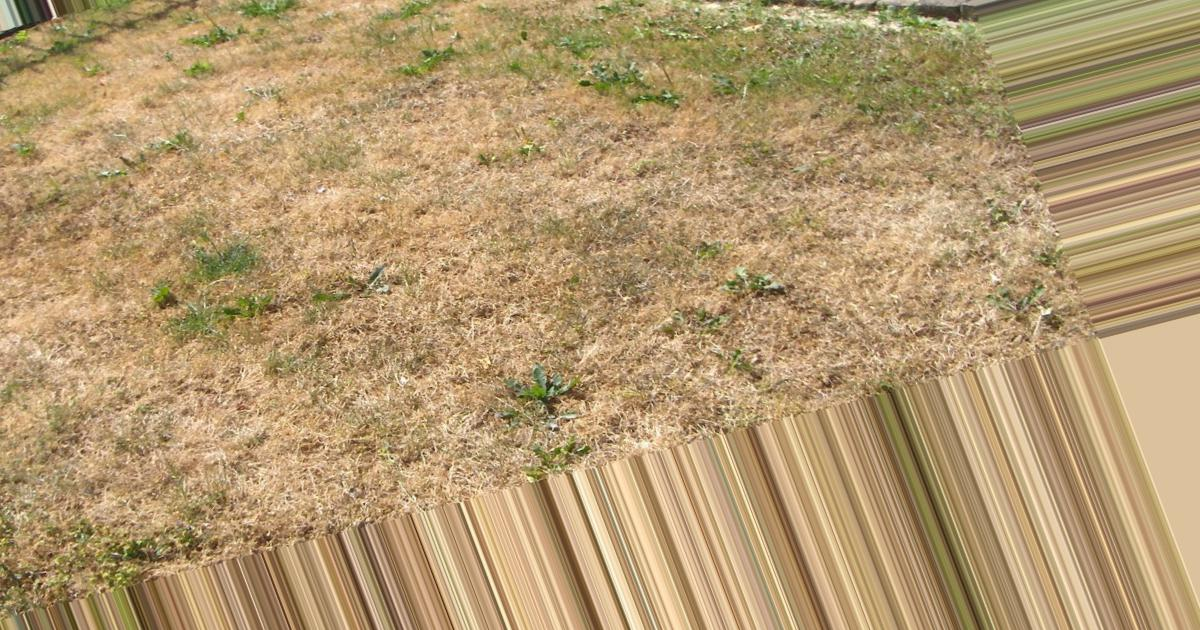patch: (295, 58, 532, 474), (48, 326, 204, 472), (563, 124, 688, 306), (709, 151, 886, 244), (150, 101, 286, 197), (38, 199, 134, 294), (52, 83, 132, 187)
